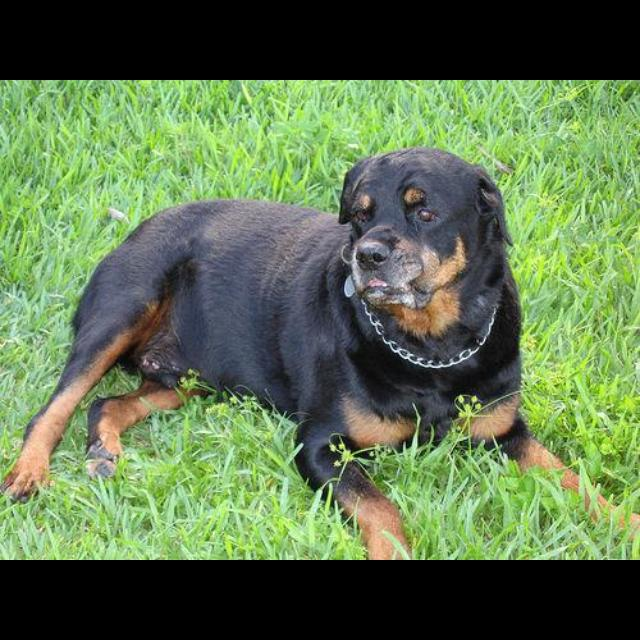rottweiler: (1, 145, 639, 559)
